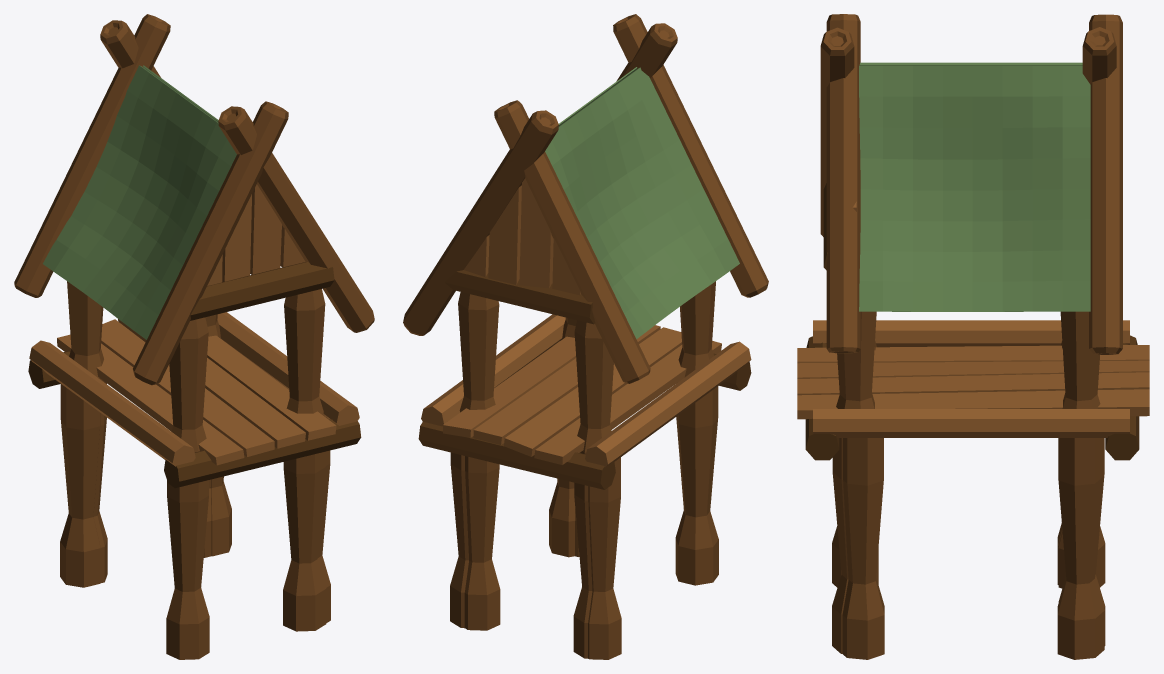
The model's file is B_B_TowerGreen.fbx.
The picture shows the model from 3 angles, left to right: view 1: azimuth 30°, elevation 25°; view 2: azimuth 150°, elevation 25°; view 3: azimuth 270°, elevation 25°; orthographic projection. The views are drawn at different scales.
Visible parts, largest first — view 1: B_B_TowerGreen; view 2: B_B_TowerGreen; view 3: B_B_TowerGreen.
Boxes of the visible parts, <box> form: B_B_TowerGreen: <box>14,14,374,659</box>; B_B_TowerGreen: <box>403,14,768,659</box>; B_B_TowerGreen: <box>797,14,1149,659</box>.
Size of the model in its own units: 345 by 733 by 394.
